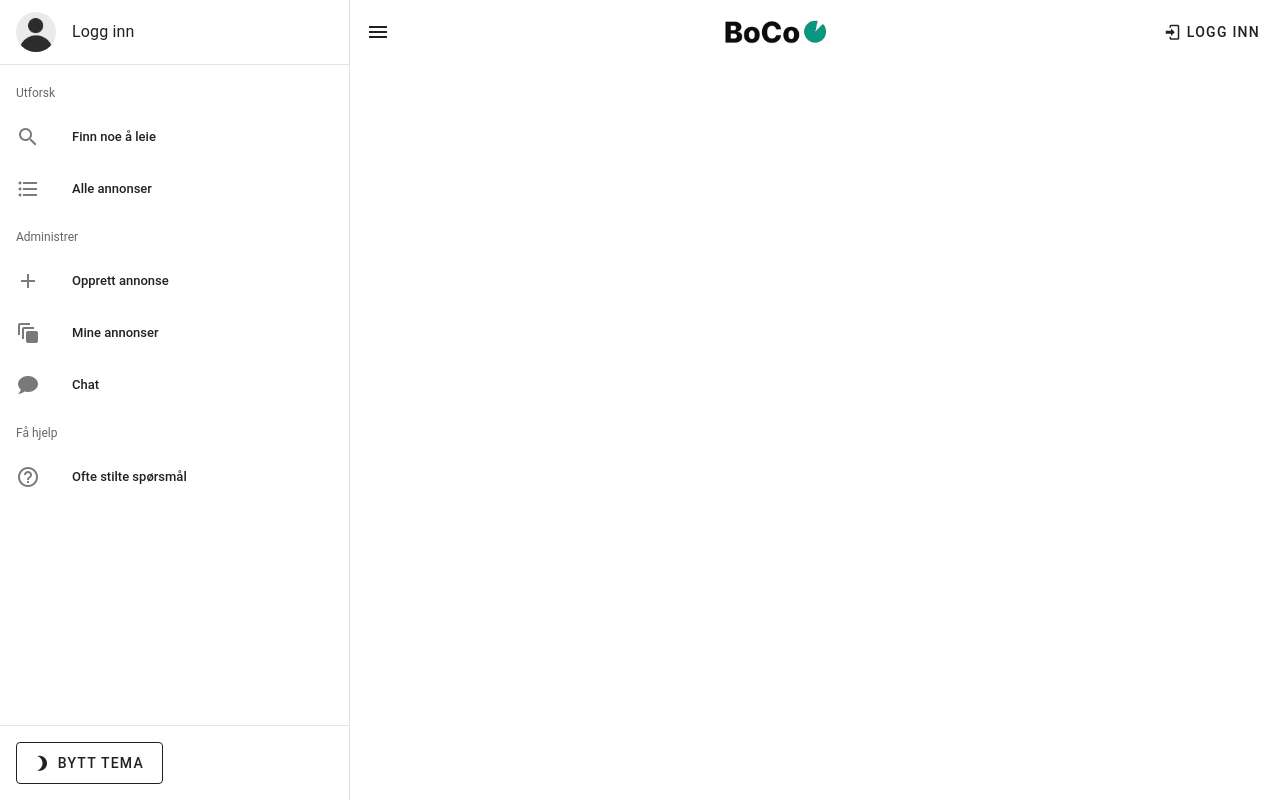
Logging in a user › Logging in user unsuccessfully, wrong password
Click the button with test id "navbar-login-button": (1213, 32) [1148,14,1277,50]
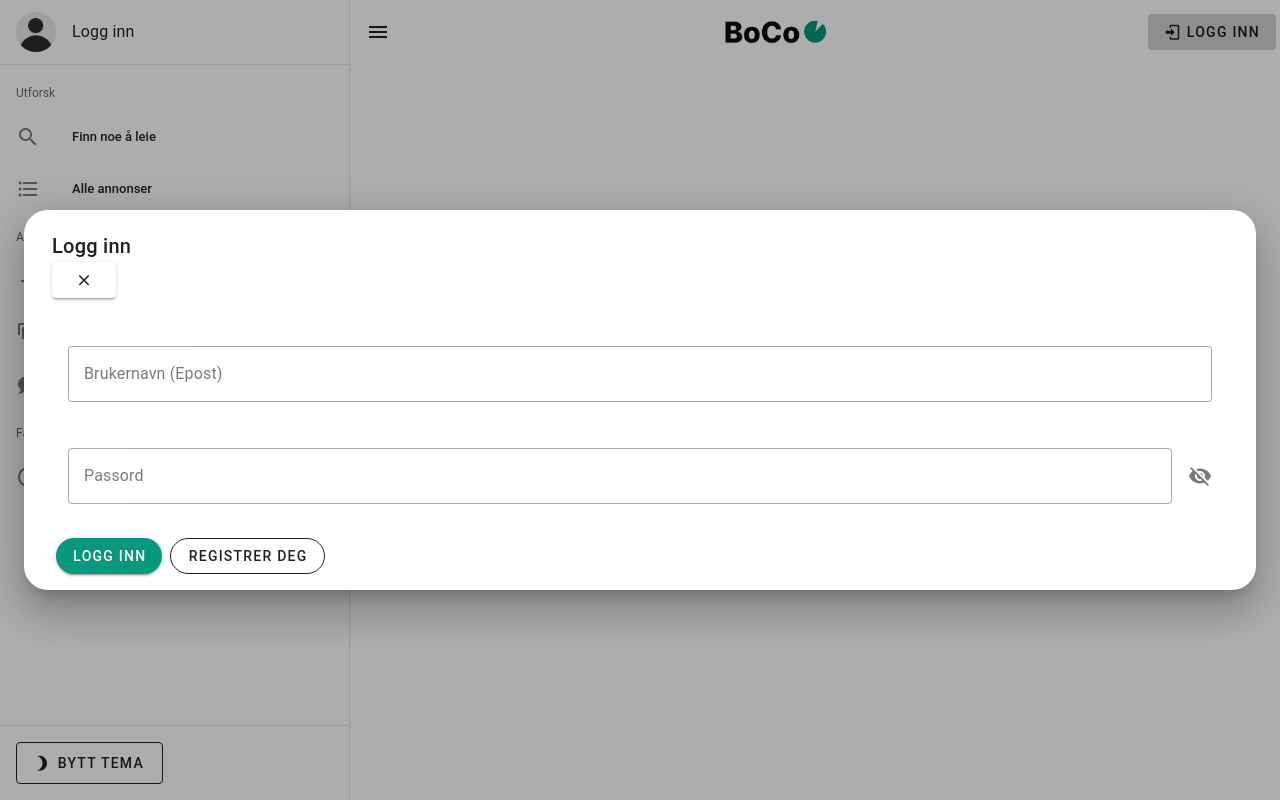
In the element with test id "username": (640, 385) [68,346,1212,424], type "john@doe.org"
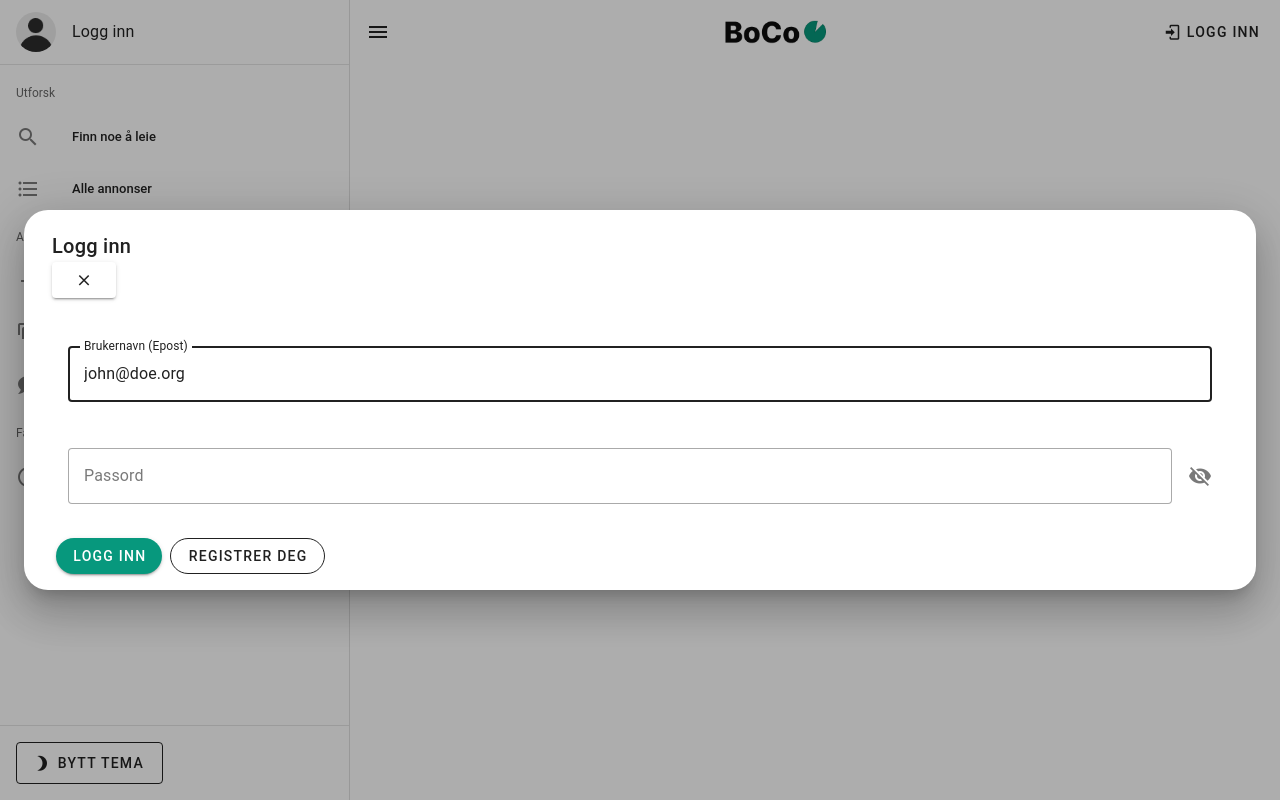
In the element with test id "password": (640, 487) [68,448,1212,526], type "password"
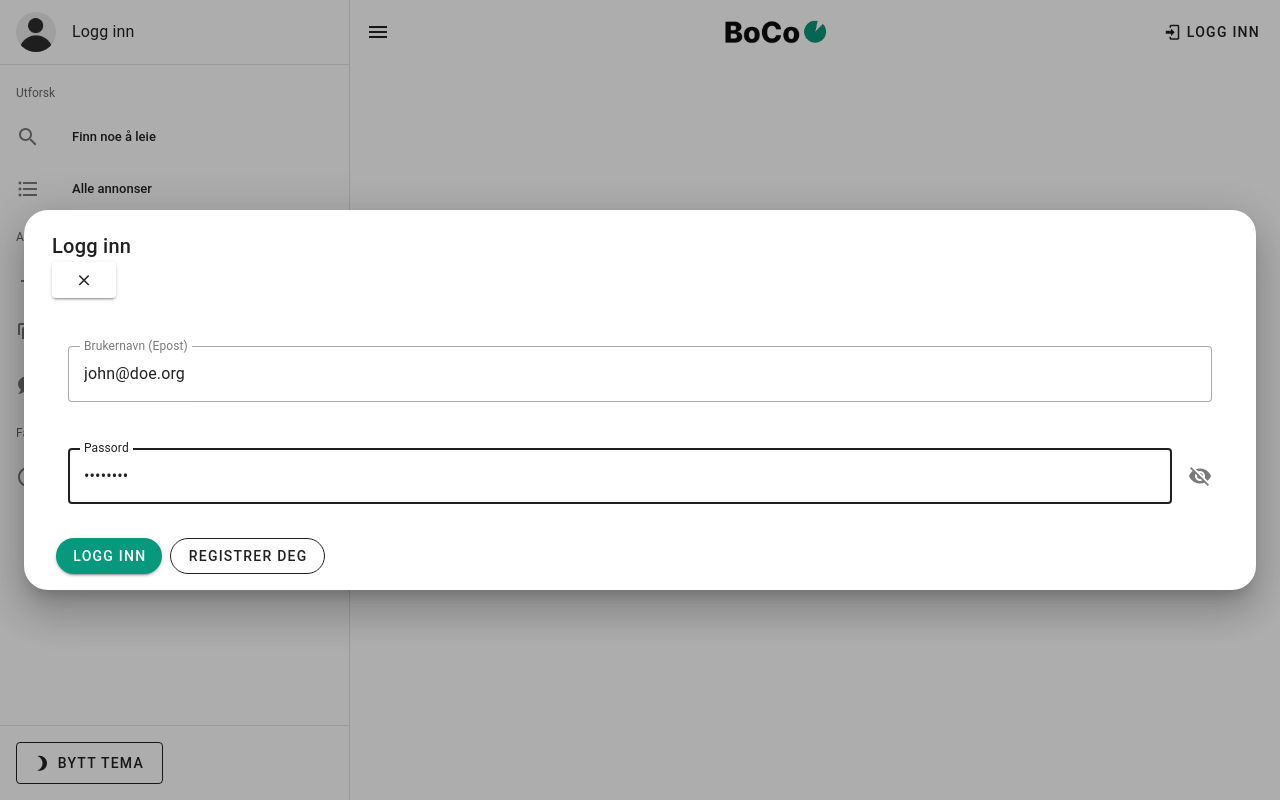
Click the button with test id "submit": (110, 556) [56,538,163,574]
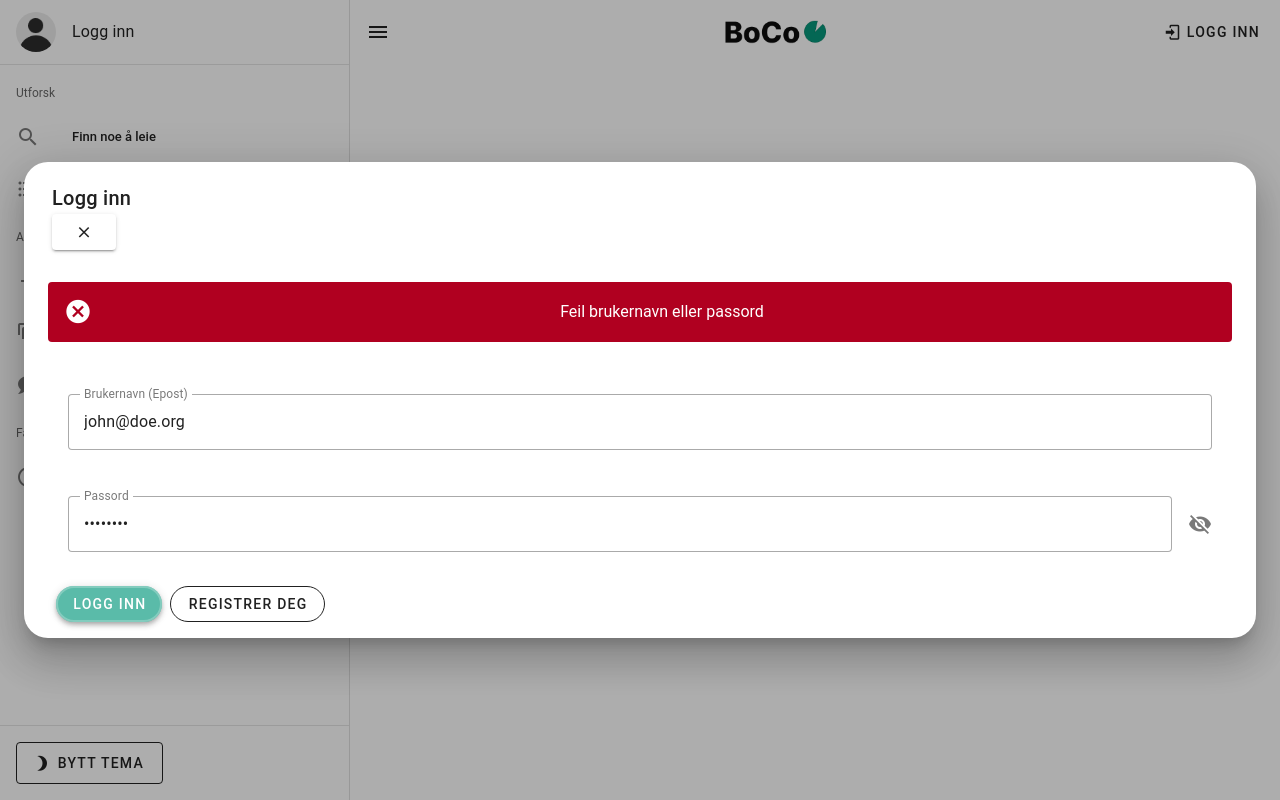
Check: the text "Feil brukernavn eller passord" is shown, box [560,302,764,321]
